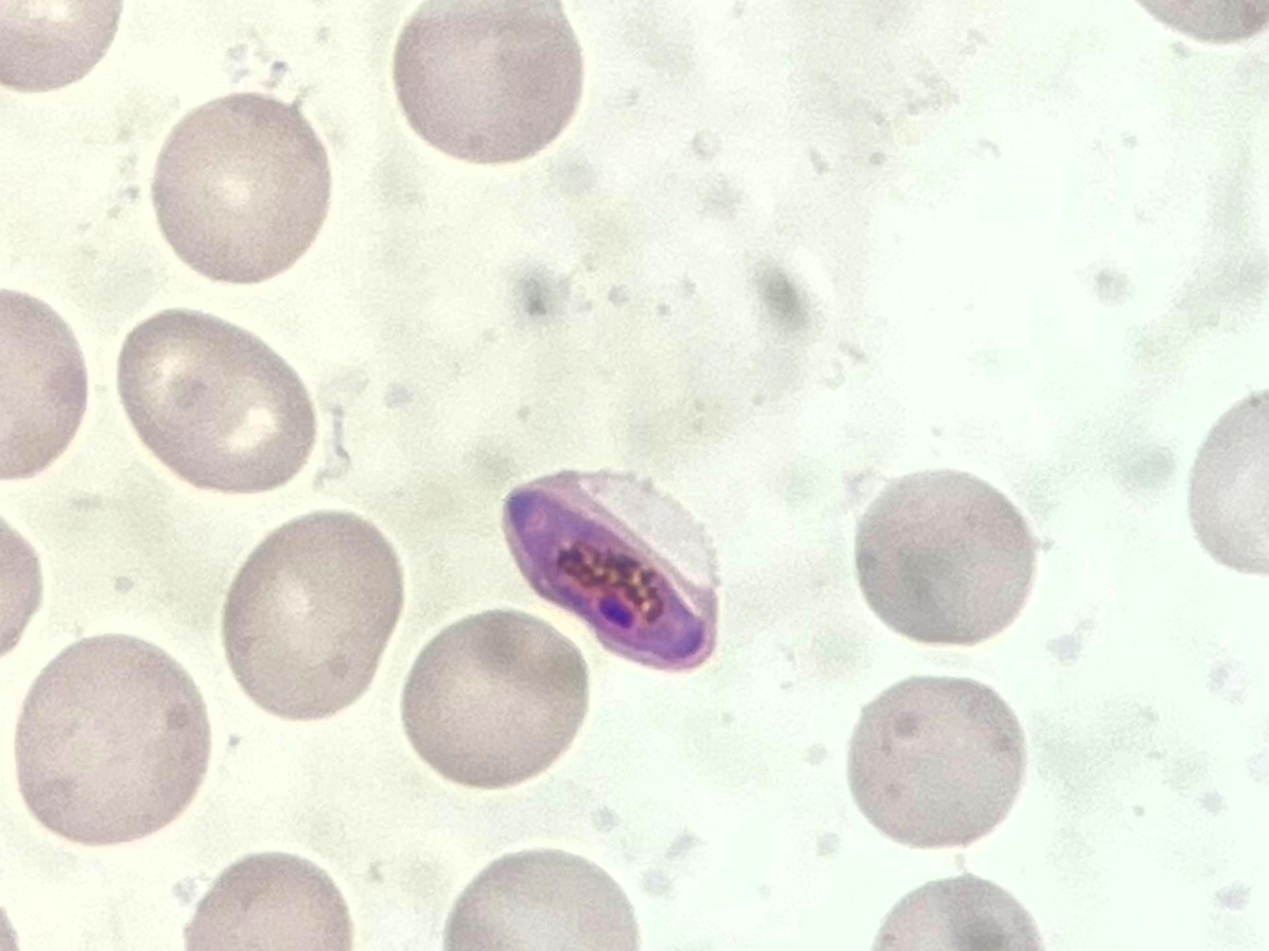Infected: (496, 461, 723, 675)
Uninfected: (11, 631, 216, 847), (218, 510, 404, 722), (115, 307, 319, 495), (145, 89, 333, 287), (397, 613, 587, 788), (855, 468, 1037, 649), (392, 0, 586, 167), (844, 673, 1030, 847), (445, 855, 643, 951), (181, 844, 350, 951)
